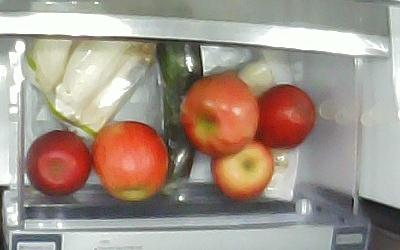apple: (178, 71, 259, 156), (89, 119, 169, 201), (24, 128, 92, 197), (252, 83, 316, 148), (209, 136, 273, 200)
